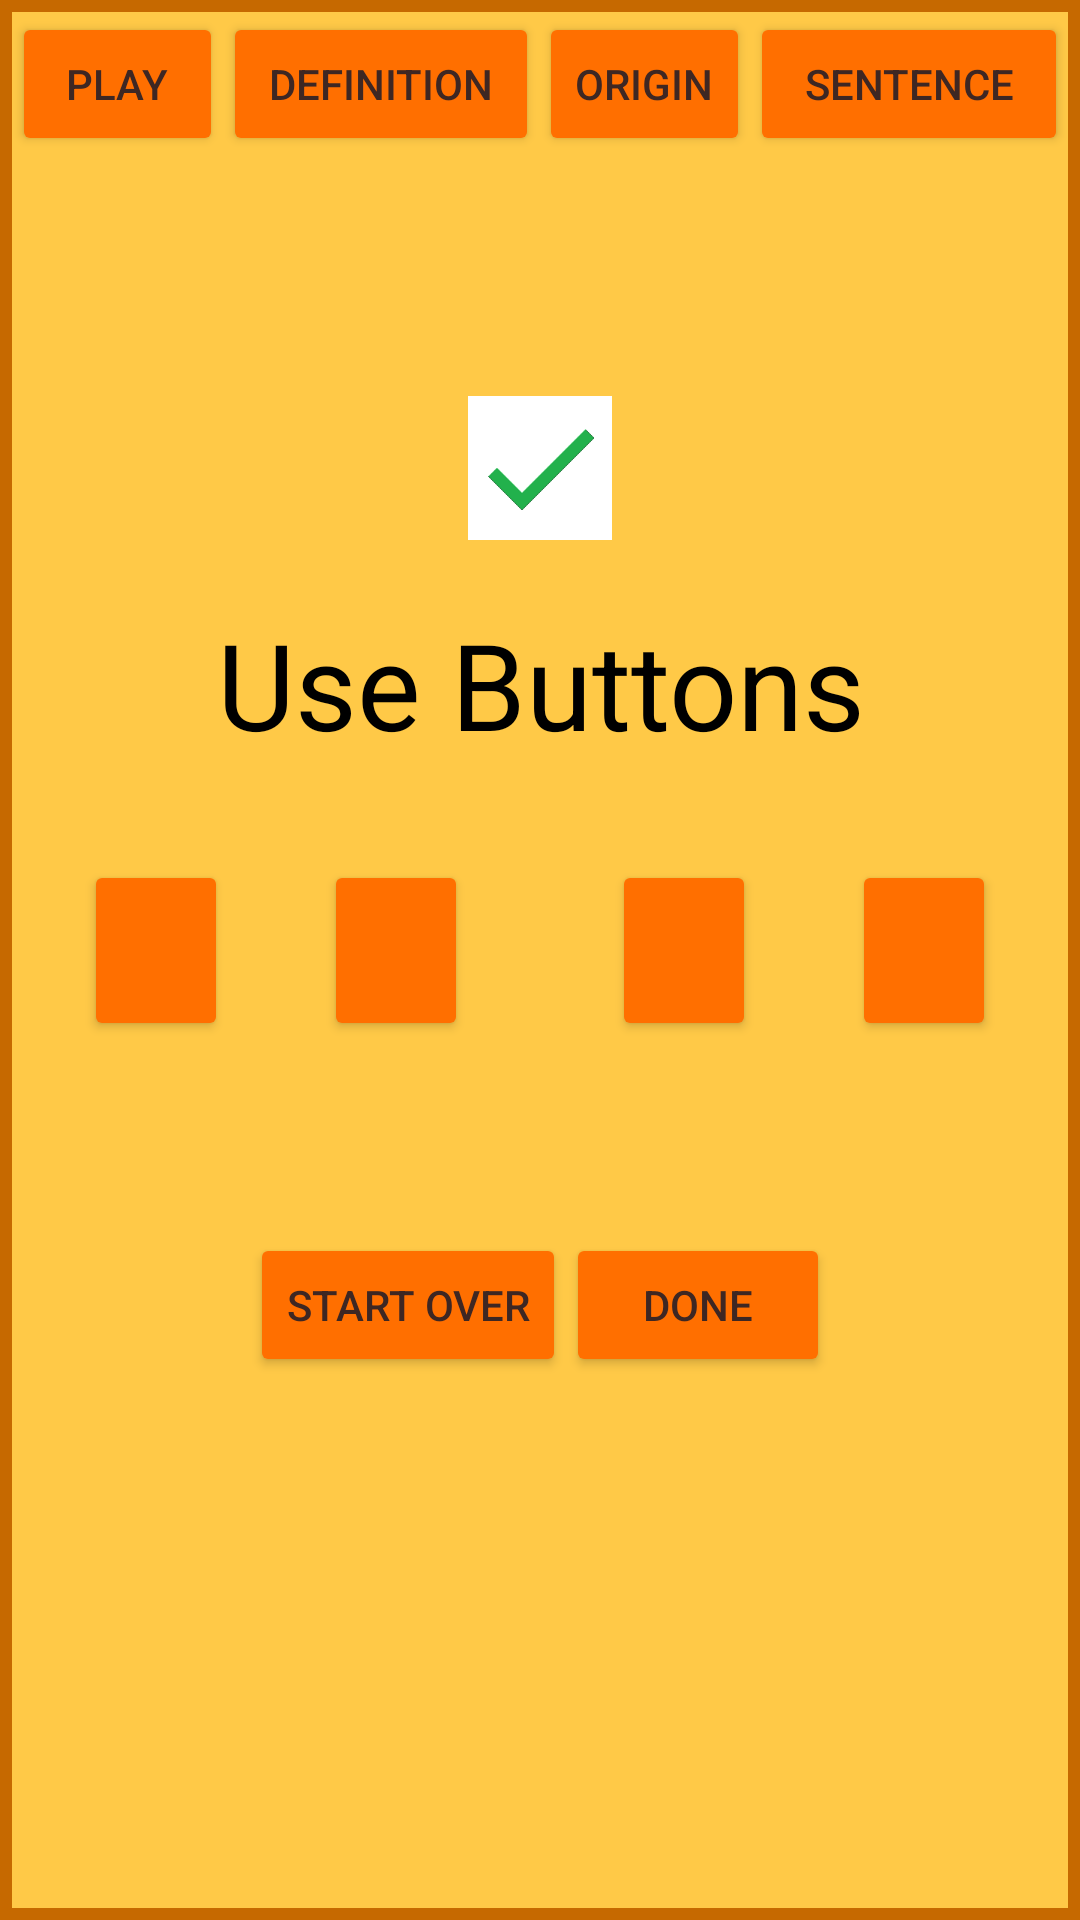

Screen size 1080px×1920px. Icon name, then its center in pixels as [x,y]:
correct: [540,468]
